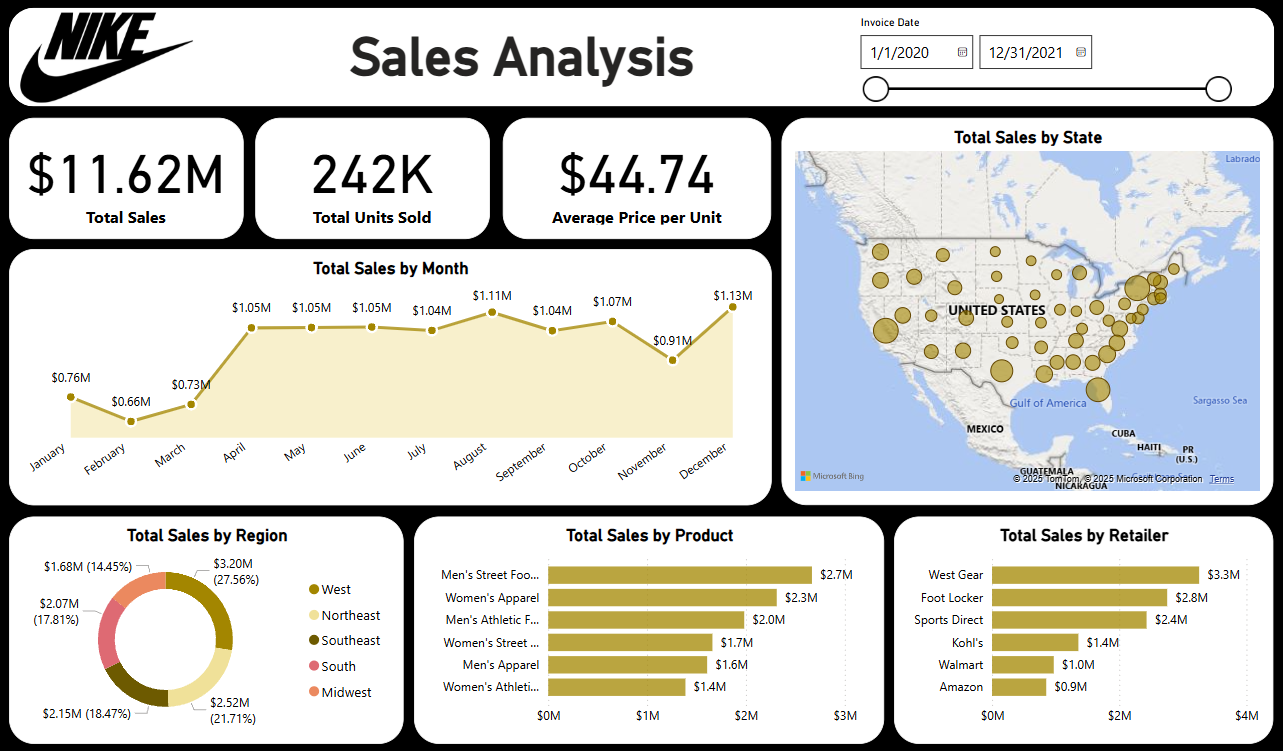

The dashboard page shown, as its layout file describes it:
{"tool":"powerbi","page":{"name":"Page 1","canvas":[1280,750],"ordinal":0},"visuals":[{"type":"shape","box":[9.5,8.9,1259.5,98.1],"z":0,"group":"g1"},{"type":"card","fields":{"Values":["Sum(Nike Dataset.Total Sales)"]},"box":[10,118.2,233.3,120.8],"z":0},{"type":"image","box":[-1.9,9,216.5,99.5],"z":1000,"group":"g1"},{"type":"card","fields":{"Values":["Sum(Nike Dataset.Units Sold)"]},"box":[255.6,118.2,233.3,120.8],"z":1000},{"type":"slicer","fields":{"Values":["Nike Dataset.Invoice Date"]},"box":[844.8,11.2,390.7,93.3],"z":2000,"group":"g1"},{"type":"card","fields":{"Values":["Avg(Nike Dataset.Price per Unit)"]},"box":[501.2,118.2,267.6,120.8],"z":2000},{"type":"areaChart","fields":{"Category":["Nike Dataset.Invoice Date.Variation.Date Hierarchy.Month"],"Y":["Sum(Nike Dataset.Total Sales)"]},"box":[10,248.6,758.8,255.2],"z":3000},{"type":"textbox","box":[200.4,21.5,638.3,75.9],"z":4000,"group":"g1"},{"type":"donutChart","title":"Total Sales by Region","fields":{"Category":["Nike Dataset.Region"],"Y":["Sum(Nike Dataset.Total Sales)"]},"box":[10,515.1,393.2,226.4],"z":4000},{"type":"group","id":"g1","title":"Group 1","box":[-1.9,8.9,1270.9,99.7],"z":5000},{"type":"map","title":"Total Sales by State","fields":{"Category":["Nike Dataset.State"],"Size":["Sum(Nike Dataset.Total Sales)"]},"box":[778.4,118.2,489.9,385.6],"z":6000},{"type":"barChart","title":"Total Sales by Product","fields":{"Category":["Nike Dataset.Product"],"Y":["Sum(Nike Dataset.Total Sales)"]},"box":[413.1,515.1,467.8,226.4],"z":7000},{"type":"barChart","title":"Total Sales by Retailer","fields":{"Category":["Nike Dataset.Retailer"],"Y":["Sum(Nike Dataset.Total Sales)"]},"box":[890.9,514.8,377.4,226.4],"z":8000}]}

Visuals, with their boxes in screenshot pixels (x1, y1, x2, y2), scaled from the page's 1280x750 canvas onto the 1283x751 screenshot:
shape: 10:9:1272:107
card - Sum(Nike Dataset.Total Sales): 10:118:244:239
image: 0:9:215:109
card - Sum(Nike Dataset.Units Sold): 256:118:490:239
slicer - Nike Dataset.Invoice Date: 847:11:1238:105
card - Avg(Nike Dataset.Price per Unit): 502:118:771:239
areaChart - Nike Dataset.Invoice Date.Variation.Date Hierarchy.Month x Sum(Nike Dataset.Total Sales): 10:249:771:504
textbox: 201:22:841:98
"Total Sales by Region" donutChart: 10:516:404:742
"Group 1" group: 0:9:1272:109
"Total Sales by State" map: 780:118:1271:504
"Total Sales by Product" barChart: 414:516:883:742
"Total Sales by Retailer" barChart: 893:515:1271:742
